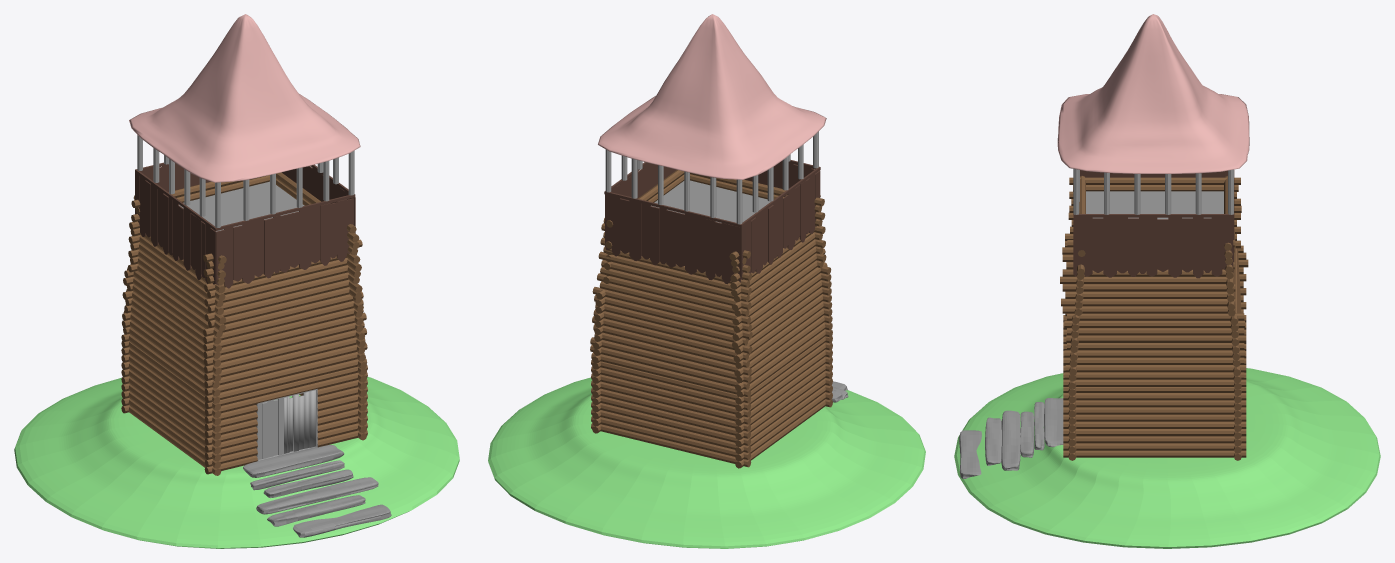
Rendered from Tower2.fbx.
3 views of the same model, side by side, from view 1: azimuth 30°, elevation 25°; view 2: azimuth 150°, elevation 25°; view 3: azimuth 270°, elevation 25° (orthographic).
Parts seen in each view (by area): view 1: Tower 2; view 2: Tower 2; view 3: Tower 2.
Boxes of the visible parts, box(x1,y1,x2,y2) form: Tower 2: box(14, 14, 459, 548); Tower 2: box(488, 14, 925, 548); Tower 2: box(954, 14, 1380, 548).
Size of the model in its own units: 13.52 by 15.39 by 13.15.
